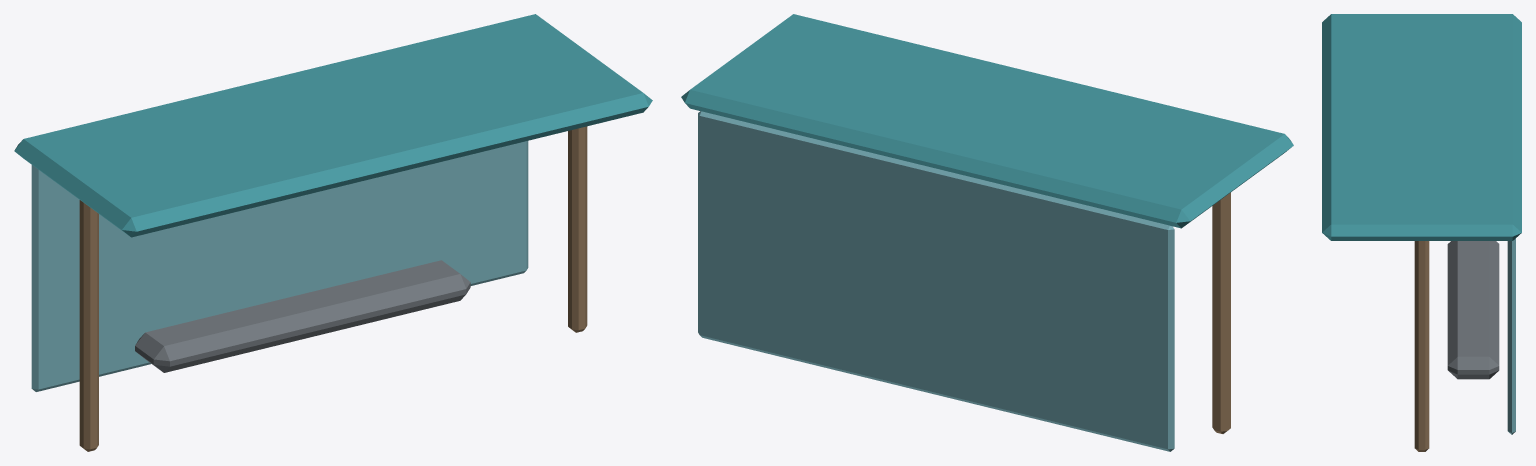
3 views of the same model, side by side, from view 1: azimuth 30°, elevation 25°; view 2: azimuth 150°, elevation 25°; view 3: azimuth 270°, elevation 25° (orthographic). The views are drawn at different scales.
Parts seen in each view (by area): view 1: LOD2_SHELTER_TRANSIT_Roof, LOD2_SHELTER_TRANSIT_Back, LOD2_SHELTER_TRANSIT_Bench, LOD2_SHELTER_TRANSIT_Post, LOD2_SHELTER_TRANSIT_Post.001; view 2: LOD2_SHELTER_TRANSIT_Back, LOD2_SHELTER_TRANSIT_Roof, LOD2_SHELTER_TRANSIT_Post; view 3: LOD2_SHELTER_TRANSIT_Roof, LOD2_SHELTER_TRANSIT_Bench, LOD2_SHELTER_TRANSIT_Post.001, LOD2_SHELTER_TRANSIT_Back.
Boxes of the visible parts, bbox=[...] form: LOD2_SHELTER_TRANSIT_Roof: bbox=[14, 14, 652, 237]; LOD2_SHELTER_TRANSIT_Back: bbox=[31, 141, 528, 391]; LOD2_SHELTER_TRANSIT_Bench: bbox=[135, 260, 470, 372]; LOD2_SHELTER_TRANSIT_Post: bbox=[79, 200, 98, 451]; LOD2_SHELTER_TRANSIT_Post.001: bbox=[568, 126, 587, 332]; LOD2_SHELTER_TRANSIT_Back: bbox=[698, 111, 1174, 451]; LOD2_SHELTER_TRANSIT_Roof: bbox=[681, 14, 1293, 228]; LOD2_SHELTER_TRANSIT_Post: bbox=[1212, 192, 1230, 433]; LOD2_SHELTER_TRANSIT_Roof: bbox=[1322, 14, 1521, 240]; LOD2_SHELTER_TRANSIT_Bench: bbox=[1447, 241, 1499, 379]; LOD2_SHELTER_TRANSIT_Post.001: bbox=[1414, 241, 1429, 451]; LOD2_SHELTER_TRANSIT_Back: bbox=[1507, 238, 1515, 434].
Size of what is drawn, in the model's own units: 6.2 by 3.06 by 2.4.
